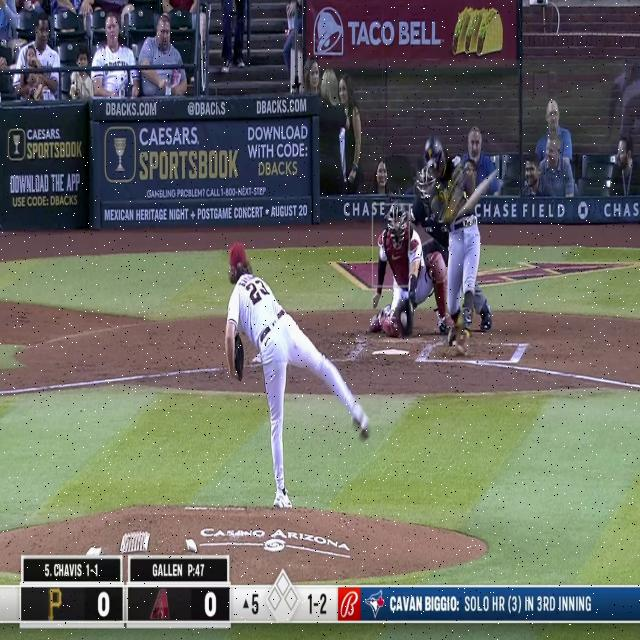baseball: (401, 312, 407, 326)
